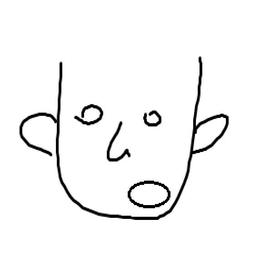ear: (16, 104, 62, 162), (187, 103, 232, 155)
empty_eye: (133, 100, 169, 131), (76, 97, 108, 127)
nose: (105, 121, 135, 164)
open_mouth: (124, 180, 177, 210)
